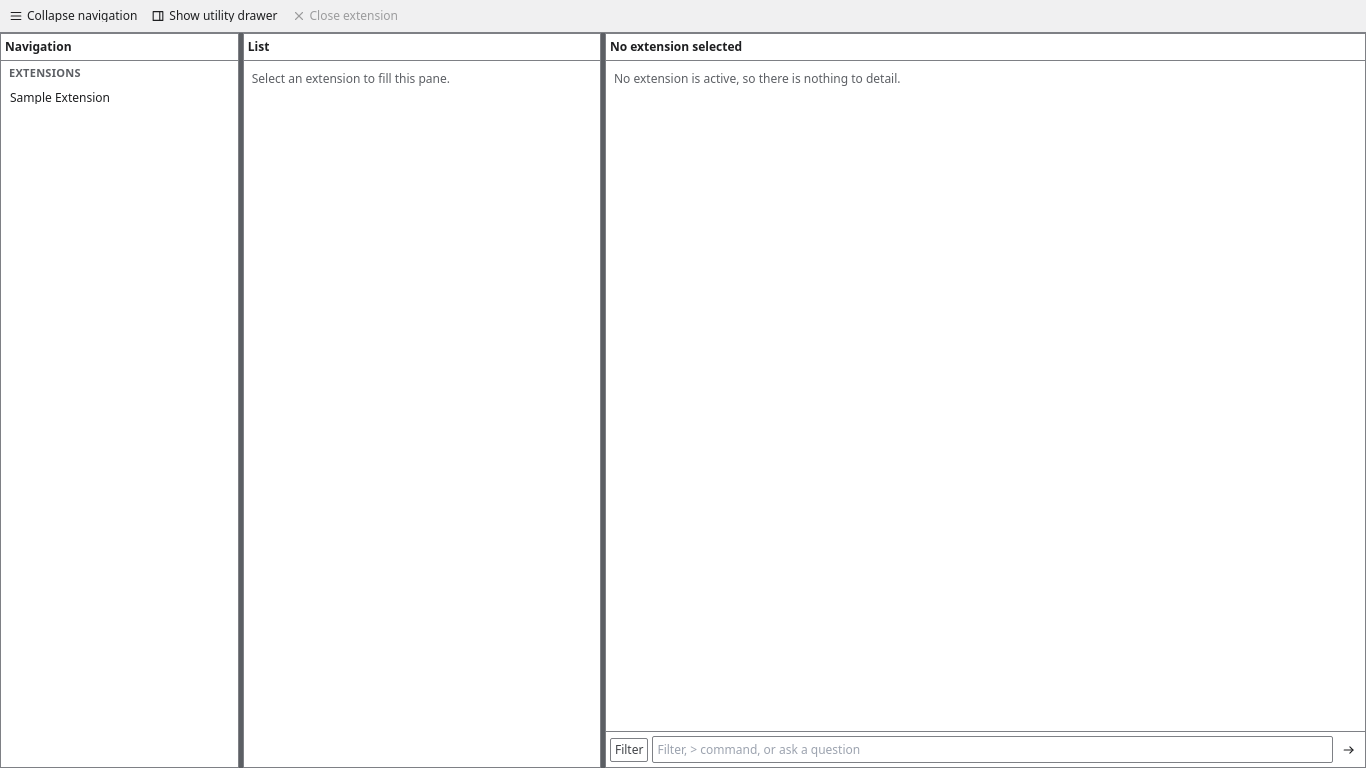
Test: ShellLayout — the block ledger it wires › renders a plug-in’s published block in pane 3, through the real lifecycle
Click the button "Sample Extension" at (119, 98), box [5,86,234,110]
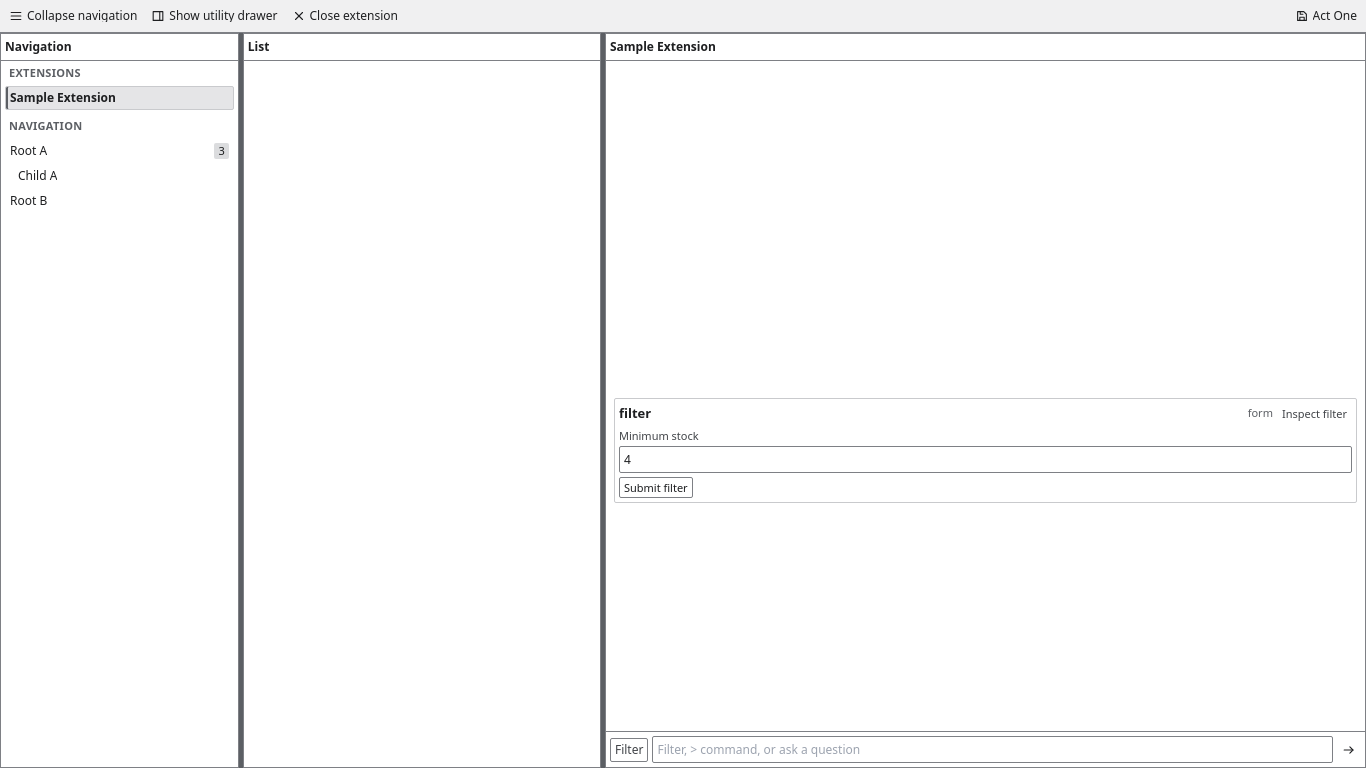
Result: the element named "Block filter" is shown at [614,398,1357,502]
Result: the field labelled "Minimum stock" is shown at [619,446,1352,472]
